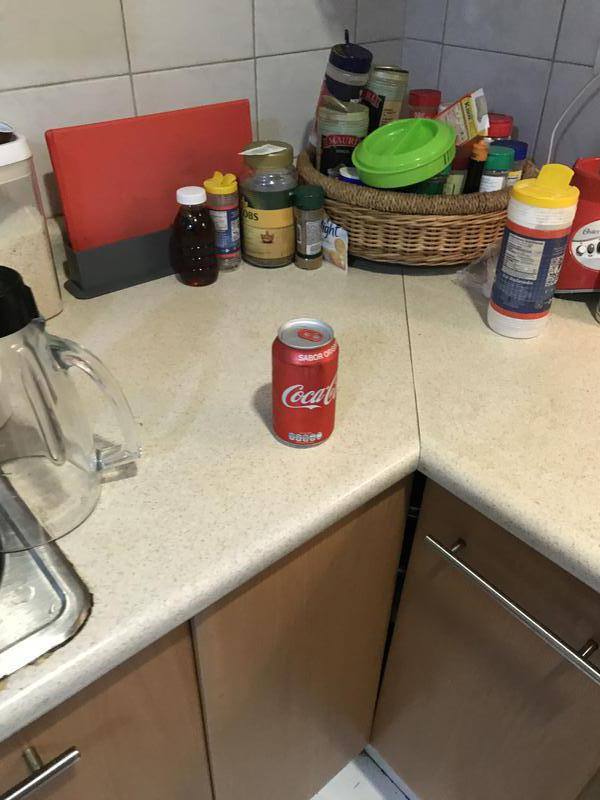coca_cola: (272, 315, 337, 447)
